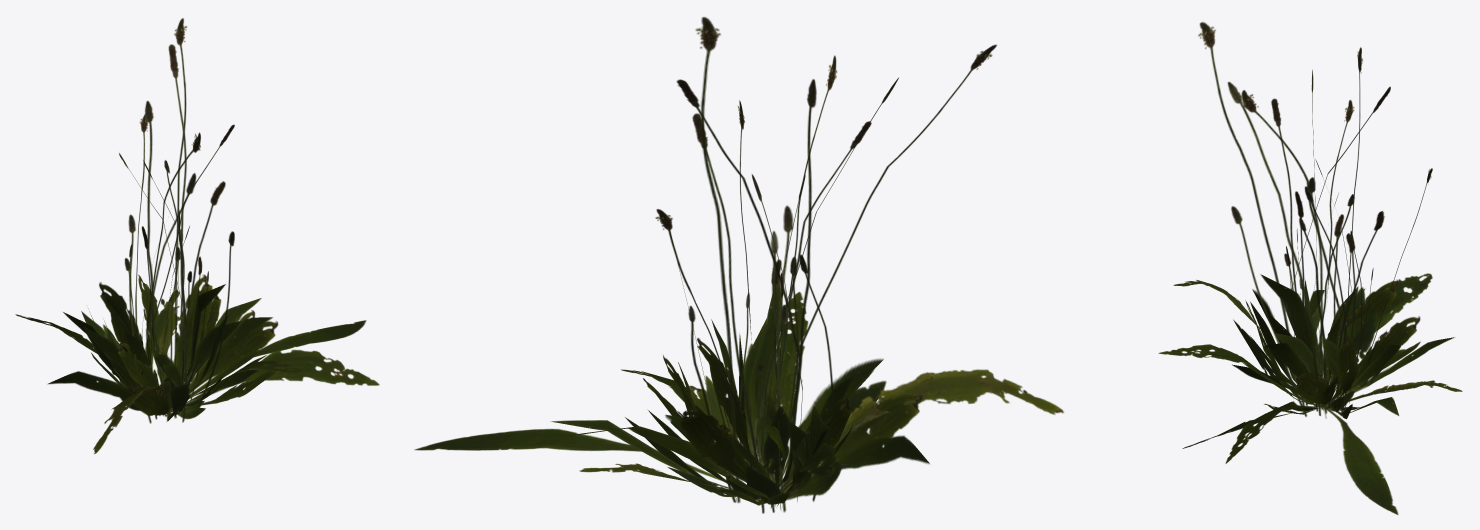
The model's file is veg-02.glb.
The picture shows the model from 3 angles, left to right: view 1: azimuth 30°, elevation 25°; view 2: azimuth 150°, elevation 25°; view 3: azimuth 270°, elevation 25°; orthographic projection. The views are drawn at different scales.
Parts seen in each view (by area): view 1: _461f_VarB_LOD1_2; view 2: _461f_VarB_LOD1_2; view 3: _461f_VarB_LOD1_2.
Boxes of the visible parts, x1,y1,x2,y2 form: _461f_VarB_LOD1_2: (15,18,379,453); _461f_VarB_LOD1_2: (414,17,1063,513); _461f_VarB_LOD1_2: (1158,22,1462,514).
Size of the model in its own units: 0.4879 by 0.4449 by 0.3482.
Materials: 1 (1 with a texture image).
